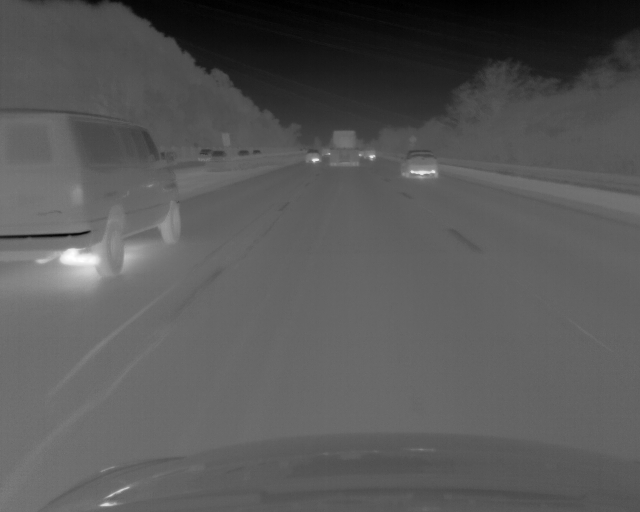car: (1, 114, 184, 283), (400, 148, 438, 179), (331, 130, 358, 167), (304, 148, 320, 163), (361, 147, 376, 160), (199, 148, 210, 161), (212, 150, 225, 160), (238, 149, 248, 156), (252, 148, 262, 155)
